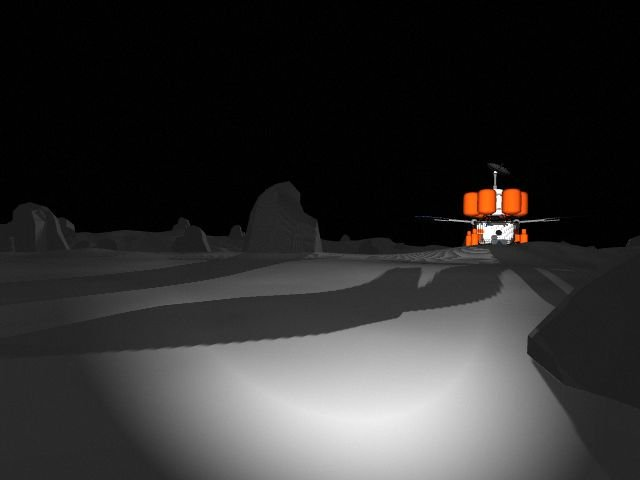homebase: (414, 160, 577, 261)
